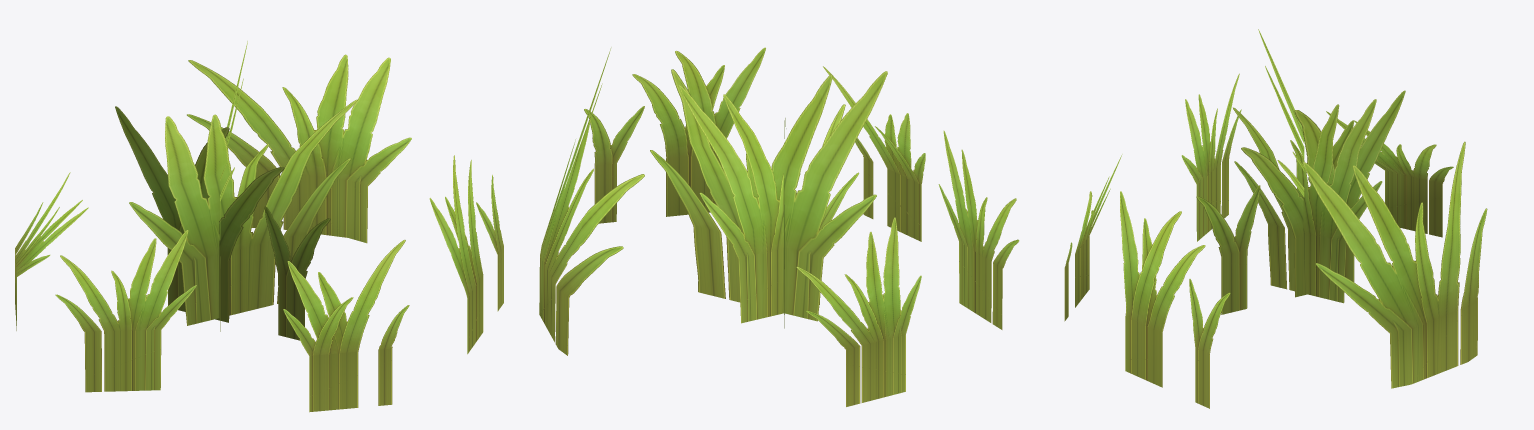
The model's file is Grass03.fbx.
3 views of the same model, side by side, from view 1: azimuth 30°, elevation 25°; view 2: azimuth 150°, elevation 25°; view 3: azimuth 270°, elevation 25° (orthographic). The views are drawn at different scales.
Parts seen in each view (by area): view 1: Stylized_Grass_alpha_4_LOD0; view 2: Stylized_Grass_alpha_4_LOD0; view 3: Stylized_Grass_alpha_4_LOD0.
Part boxes in pixels (bbox=[...]): Stylized_Grass_alpha_4_LOD0: bbox=[15, 41, 503, 412]; Stylized_Grass_alpha_4_LOD0: bbox=[539, 47, 1019, 406]; Stylized_Grass_alpha_4_LOD0: bbox=[1064, 29, 1487, 408].
Size of what is drawn, in the model's own units: 49.54 by 26.12 by 45.65.
1 material, 1 textured.
